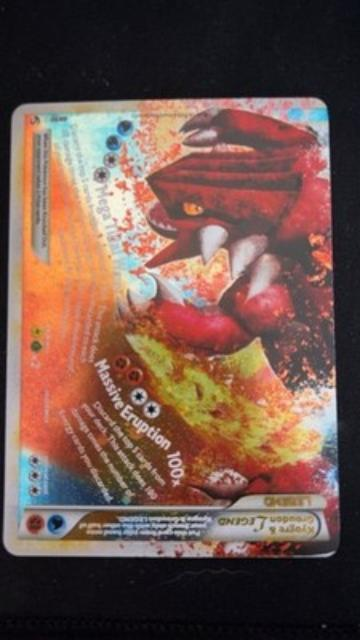Card: (0, 94, 346, 563)
Name: (212, 512, 320, 540)
